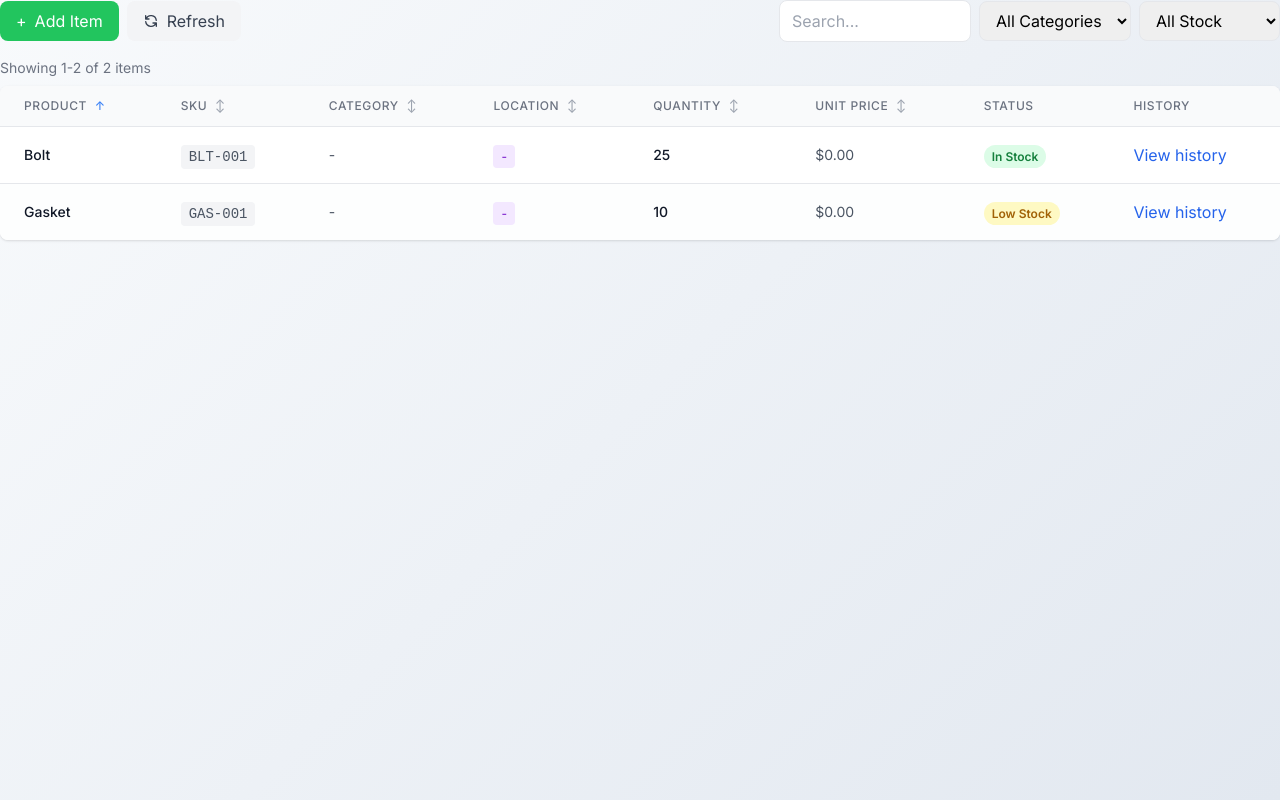
Test: shows loading and allows closing the panel while the request is pending
What coordinates should you click on to do the following:
click the button with aria-label "View history for Bolt"
I would click on:
 (1180, 155)
Its box is [1133,143,1227,167].
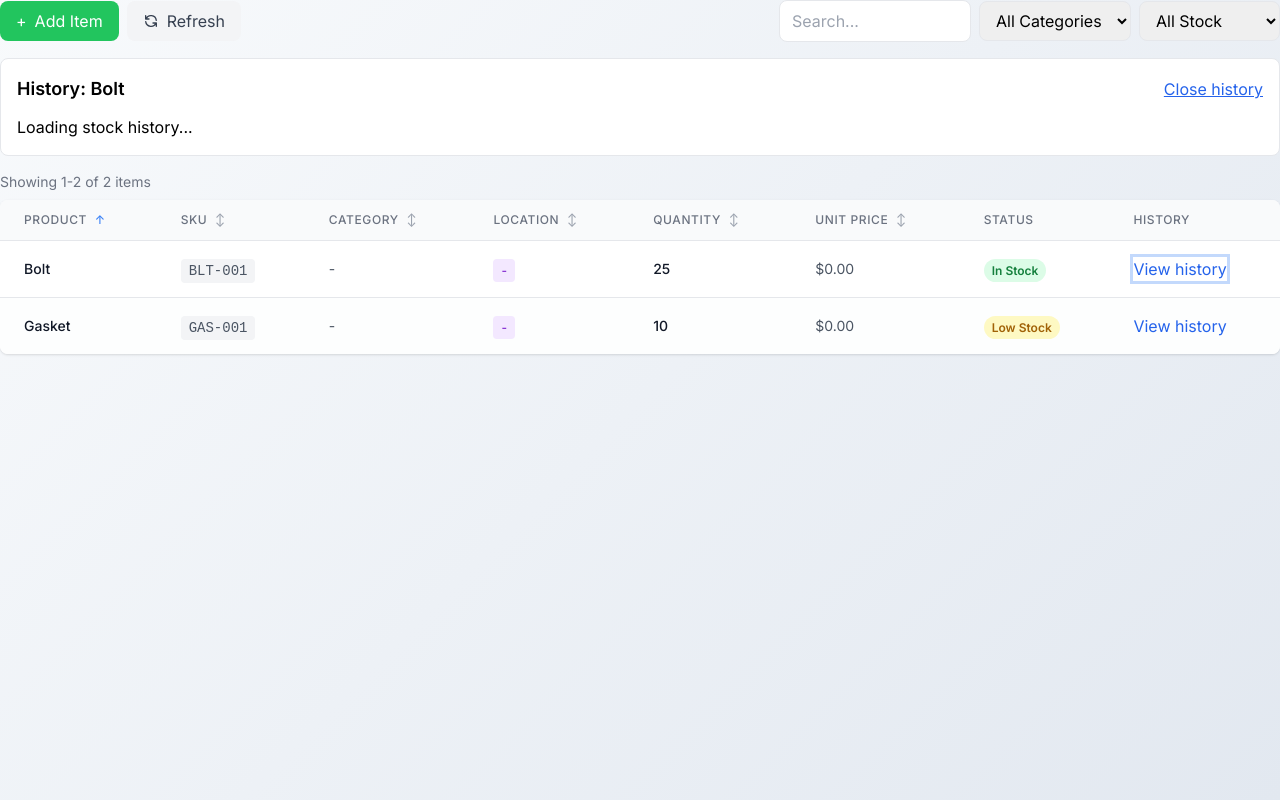
Result: the message shows "Loading stock history" at [17,117,193,137]
What coordinates should you click on to do the following:
click the button "Close history"
I would click on:
 (1213, 89)
Its box is [1164,77,1263,101].
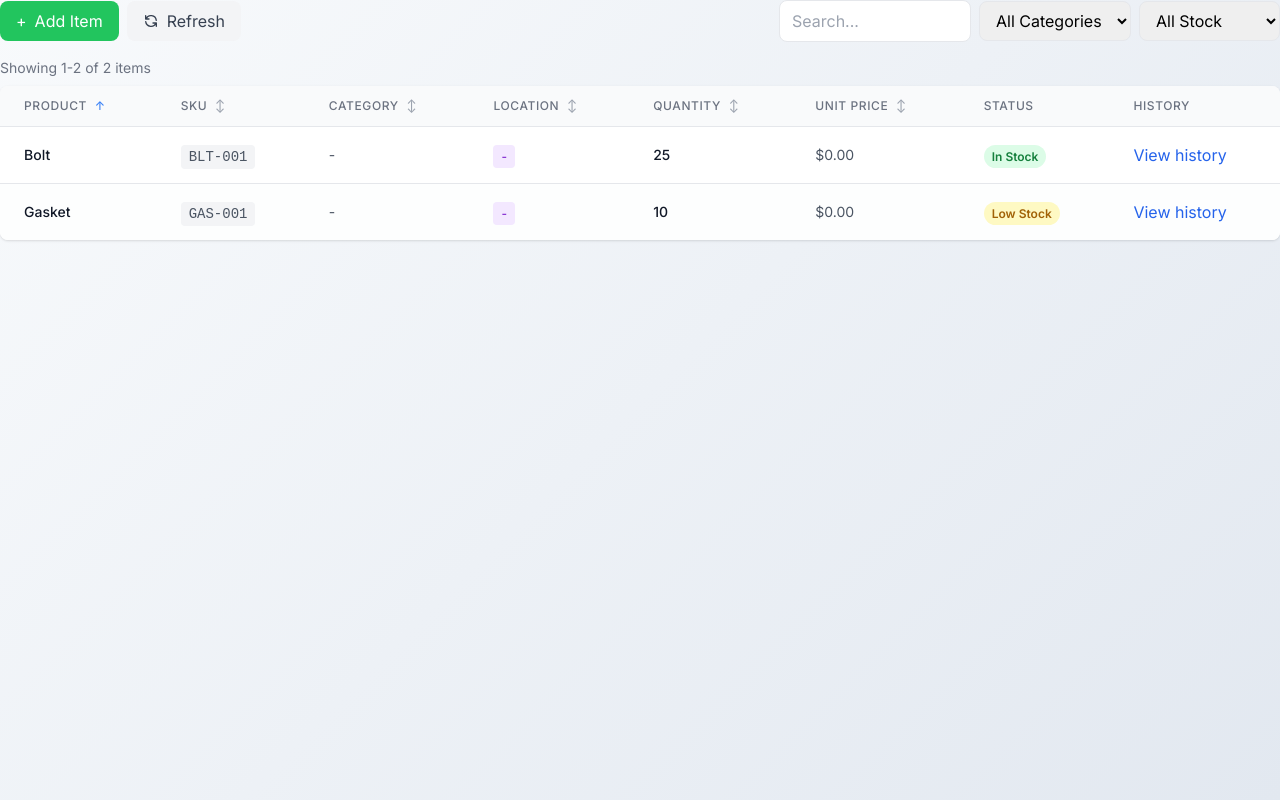
Result: the message "Loading stock history..." is gone
